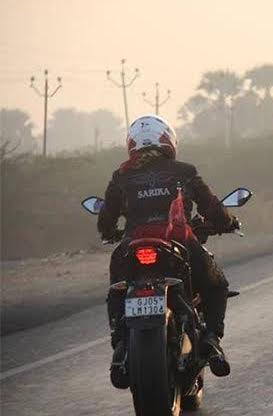motor: (81, 193, 255, 412)
number: (124, 298, 166, 317)
with helmet: (126, 116, 178, 159)
